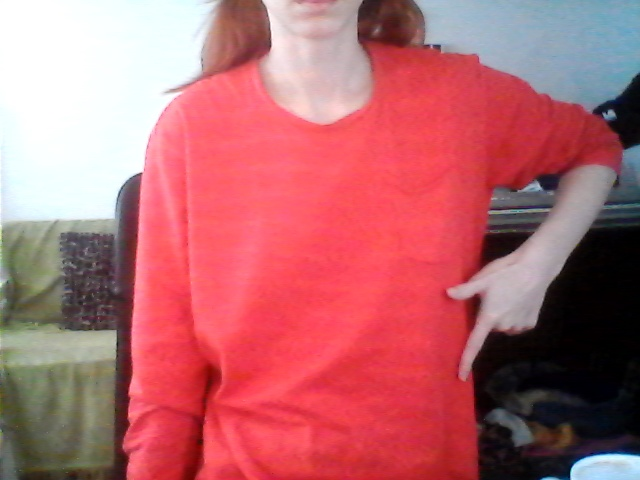policia: (436, 252, 551, 383)
